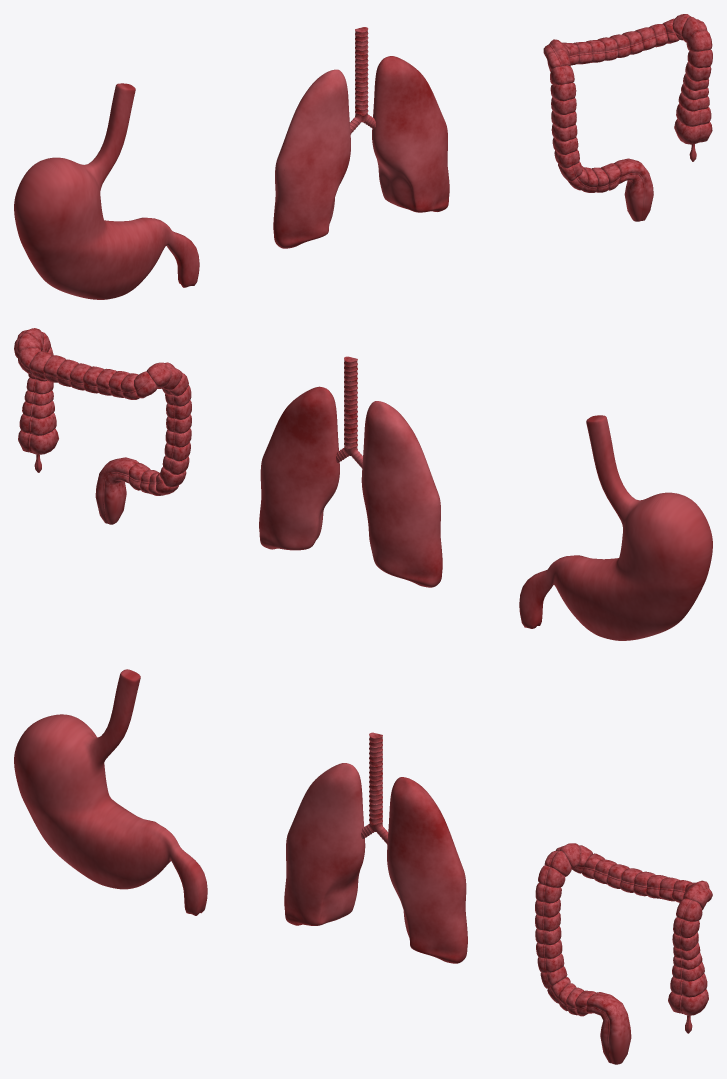
Rendered from organ final.fbx.
3 views of the same model, one above another, from view 1: azimuth 30°, elevation 25°; view 2: azimuth 150°, elevation 25°; view 3: azimuth 330°, elevation 25° (orthographic). The views are drawn at different scales.
Visible parts, largest first — view 1: Cylinder.001, Cylinder.005, Circle; view 2: Cylinder.001, Cylinder.005, Circle; view 3: Cylinder.001, Cylinder.005, Circle.
Boxes of the visible parts, left/top/right/bottom form: Cylinder.001: left=273, top=27, right=449, bottom=248; Cylinder.005: left=14, top=83, right=199, bottom=299; Circle: left=543, top=14, right=712, bottom=221; Cylinder.001: left=259, top=356, right=442, bottom=587; Cylinder.005: left=519, top=415, right=712, bottom=640; Circle: left=14, top=328, right=191, bottom=524; Cylinder.001: left=284, top=732, right=467, bottom=963; Cylinder.005: left=14, top=669, right=207, bottom=915; Circle: left=535, top=843, right=712, bottom=1064.
Size of the model in its own units: 269 by 90.88 by 34.12.
